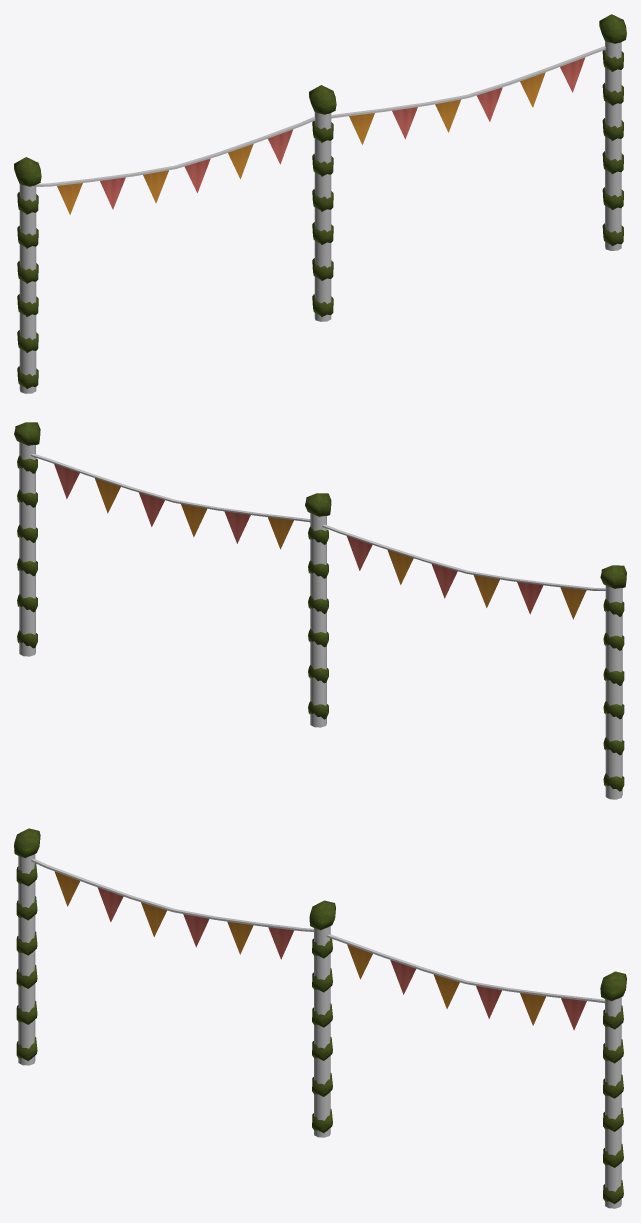
File: Flags_Line_Art.fbx
3 renders of one model, top to bottom at view 1: azimuth 30°, elevation 25°; view 2: azimuth 150°, elevation 25°; view 3: azimuth 330°, elevation 25°, orthographic.
Parts seen in each view (by area): view 1: Oktoberfest_Flags_Pole1; view 2: Oktoberfest_Flags_Pole1; view 3: Oktoberfest_Flags_Pole1.
Part boxes in pixels (x1,y1,x2,y2): Oktoberfest_Flags_Pole1: (14, 14, 626, 393); Oktoberfest_Flags_Pole1: (14, 422, 626, 799); Oktoberfest_Flags_Pole1: (14, 828, 626, 1208).
Size of the model in its own units: 1963 by 713 by 79.2.
